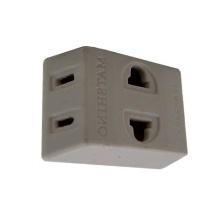three_eye_plug: (35, 43, 191, 174)
